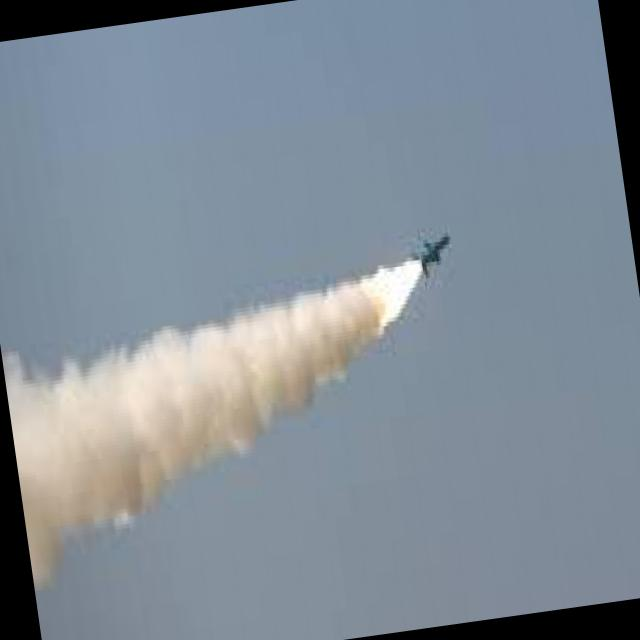rocket: (351, 215, 470, 354)
